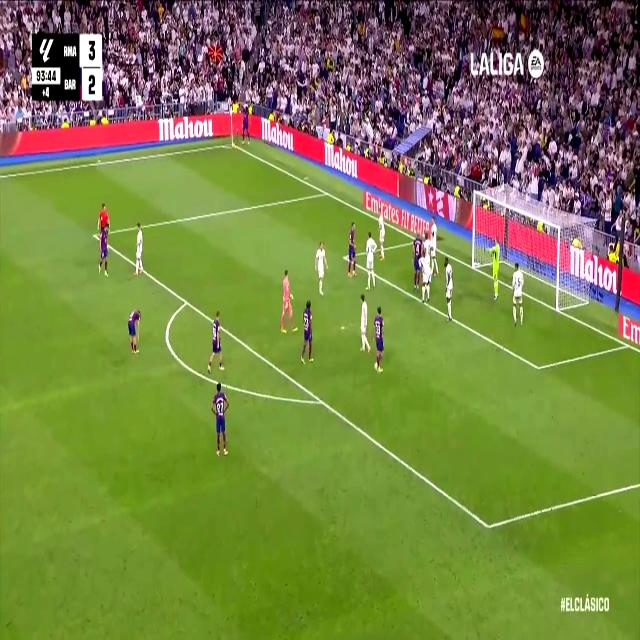bigarea_bottom_inner: (481, 510, 495, 542)
bigarea_top_inner: (91, 225, 99, 245)
bigarea_top_outter: (322, 184, 330, 199)
bottom_arc_area_intersection: (316, 389, 326, 412)
corner: (227, 137, 237, 150)
smallarea_bottom_inner: (533, 356, 543, 378)
smallarea_bottom_outter: (622, 338, 632, 352)
smallarea_top_inner: (342, 250, 348, 264)
top_arc_area_intersection: (182, 291, 190, 310)
